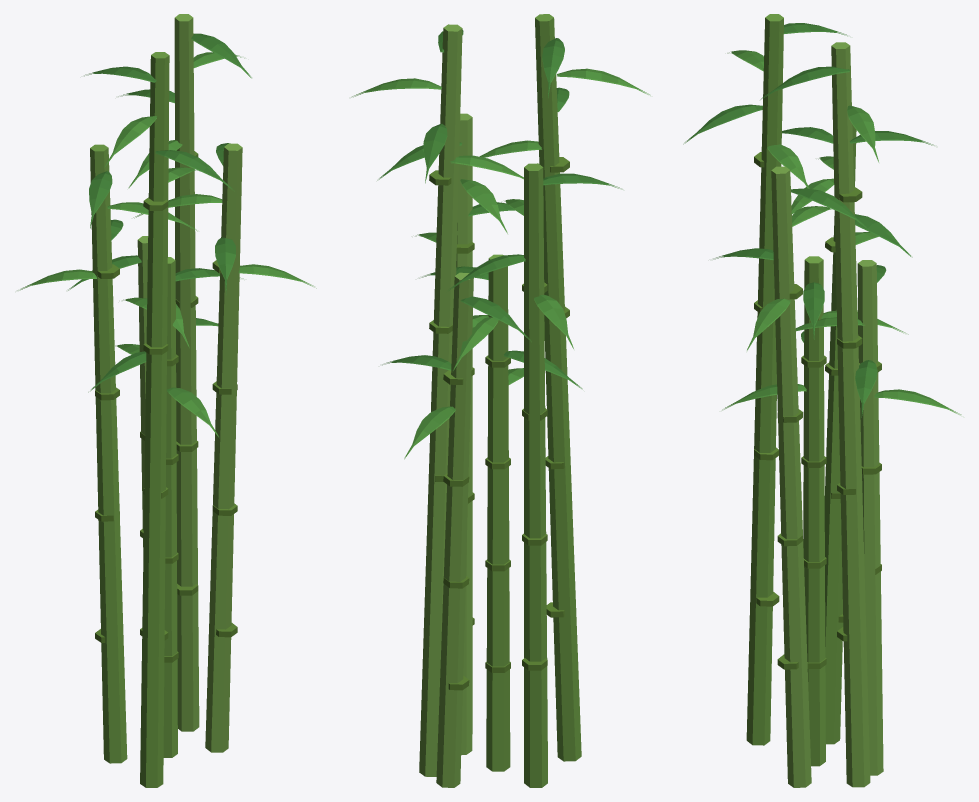
File: tree-bamboo.glb
3 views of the same model, side by side, from view 1: azimuth 30°, elevation 25°; view 2: azimuth 150°, elevation 25°; view 3: azimuth 270°, elevation 25° (orthographic). The views are drawn at different scales.
Visible parts, largest first — view 1: tree-bamboo; view 2: tree-bamboo; view 3: tree-bamboo.
Part boxes in pixels (bbox=[...]): tree-bamboo: bbox=[17, 14, 316, 787]; tree-bamboo: bbox=[351, 14, 650, 787]; tree-bamboo: bbox=[683, 14, 961, 787].
Bounding box in the file's own units: 3.45 × 10.2 × 3.57.
